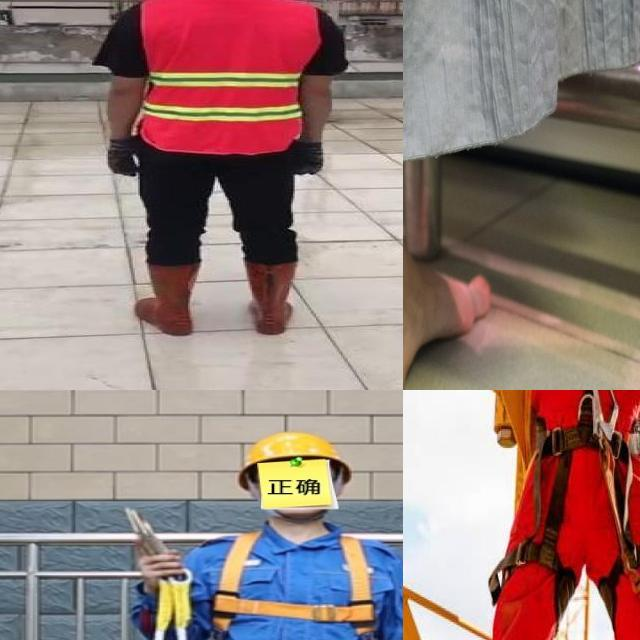Barefoots: (403, 263, 491, 390)
Harness: (200, 518, 399, 640), (528, 390, 633, 570)
hand_glove: (96, 123, 148, 195), (286, 125, 327, 188)
person: (90, 0, 350, 335)
